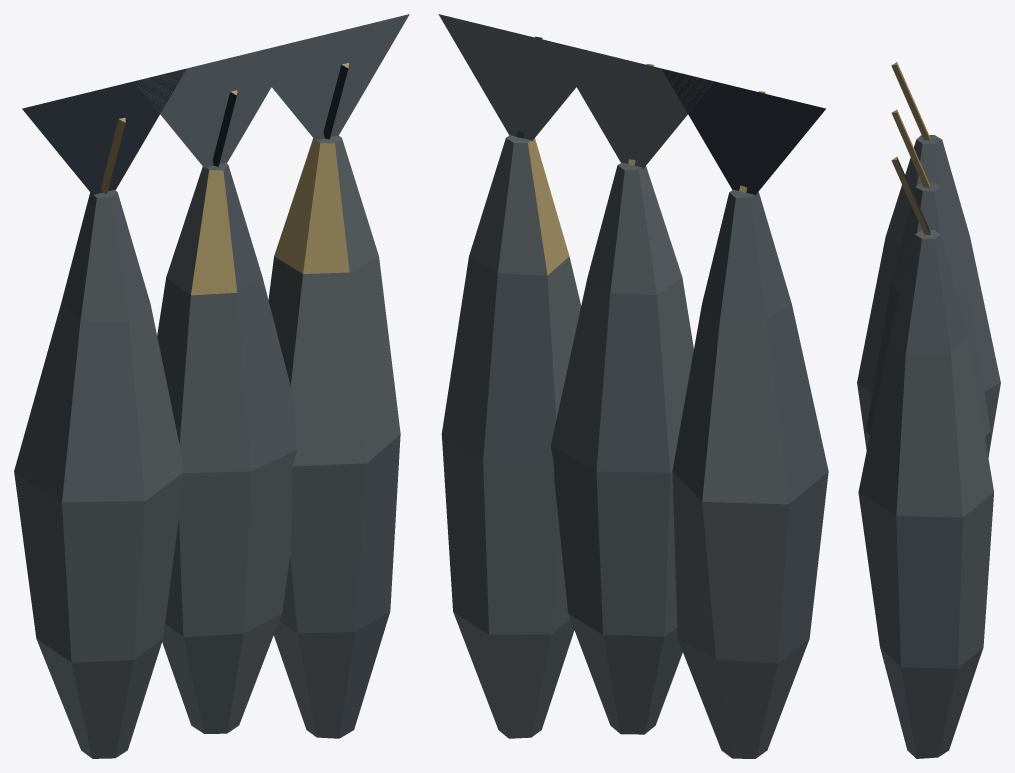
The model's file is drying_rack_pesce_3.glb.
3 renders of one model, left to right at view 1: azimuth 30°, elevation 25°; view 2: azimuth 150°, elevation 25°; view 3: azimuth 270°, elevation 25°, orthographic. The views are drawn at different scales.
Parts seen in each view (by area): view 1: drying_rack_pesce_3; view 2: drying_rack_pesce_3; view 3: drying_rack_pesce_3.
Part boxes in pixels (bbox=[...]): drying_rack_pesce_3: bbox=[14, 14, 409, 758]; drying_rack_pesce_3: bbox=[438, 14, 828, 758]; drying_rack_pesce_3: bbox=[857, 62, 1000, 758].
Bounding box in the file's own units: 0.94 × 1.61 × 0.3464.
